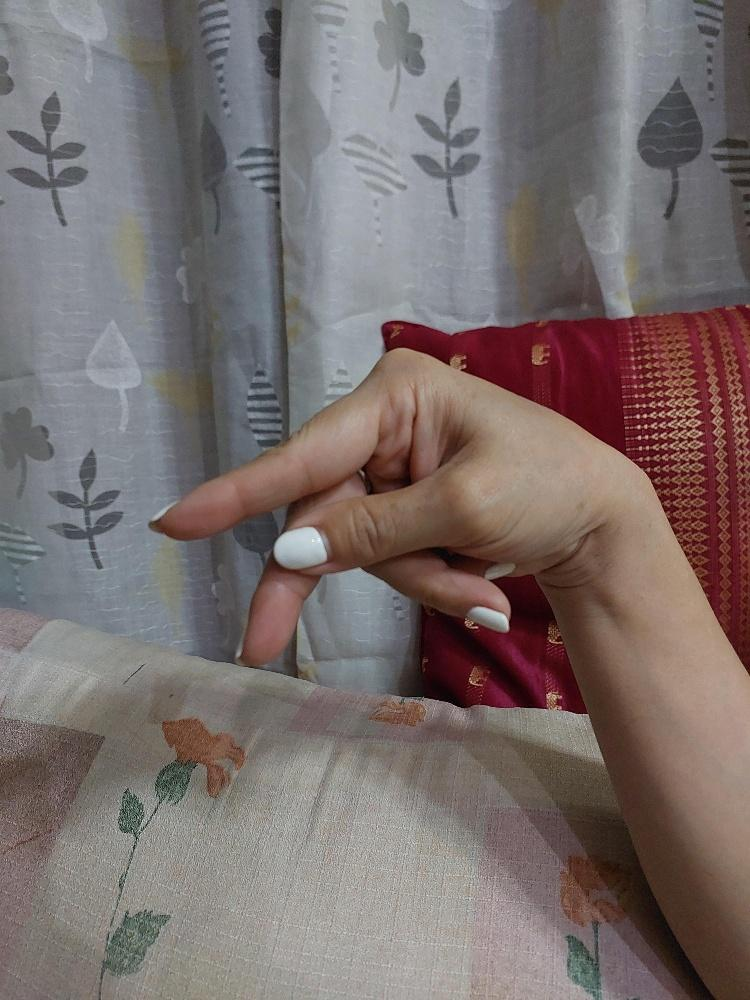p: (149, 344, 608, 668)
